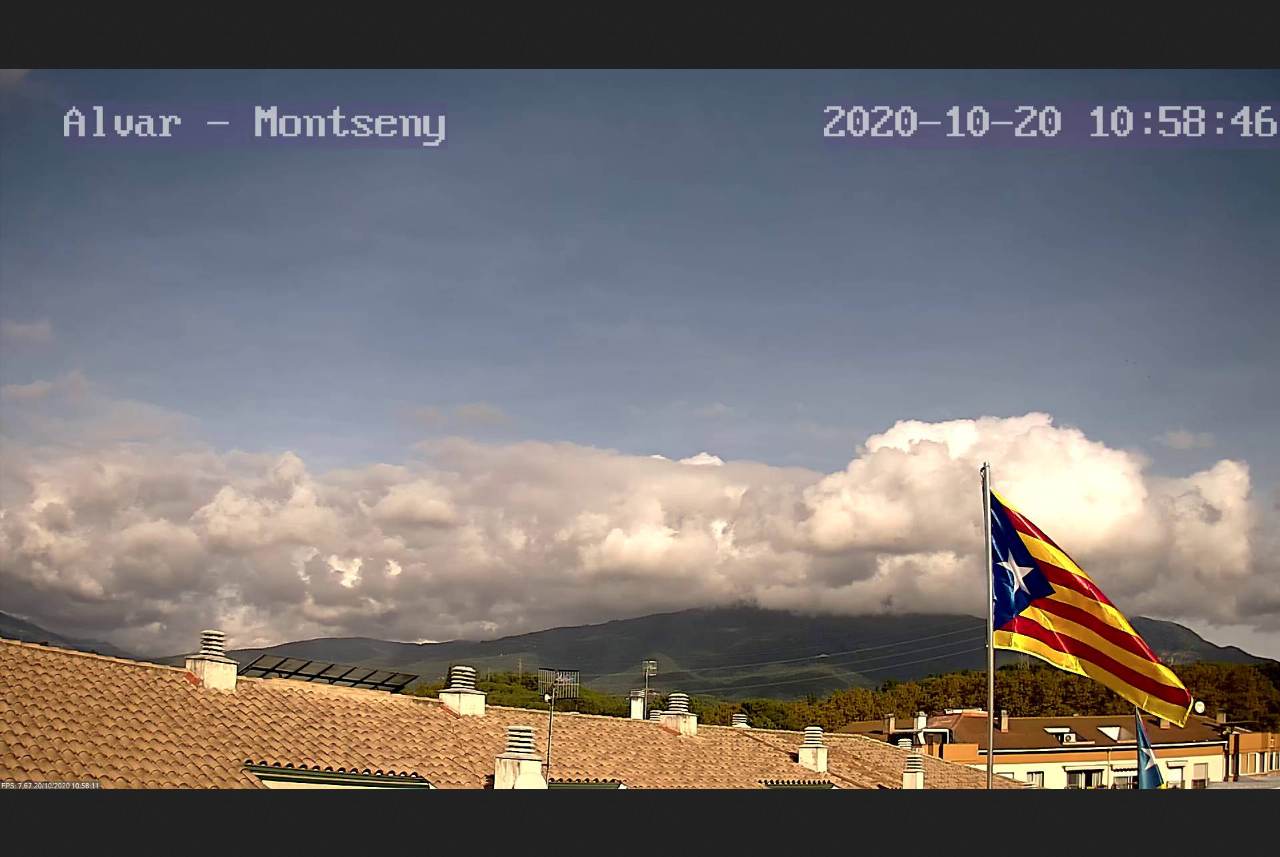maybe: (983, 484, 1201, 732)
